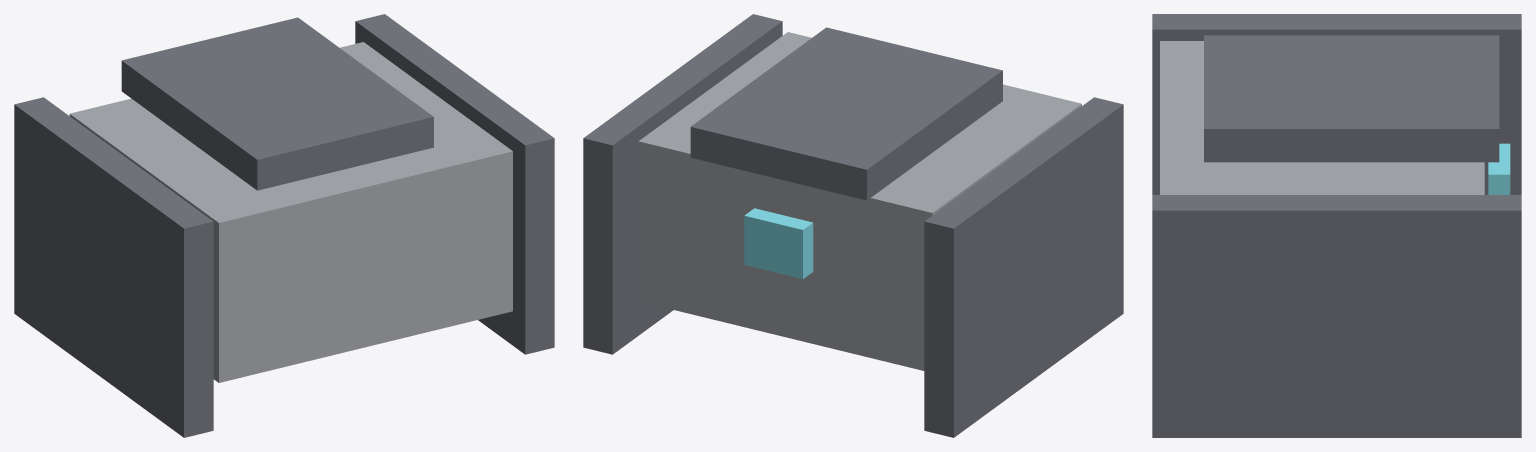
File: pdc_twin_pitch.glb
3 views of the same model, side by side, from view 1: azimuth 30°, elevation 25°; view 2: azimuth 150°, elevation 25°; view 3: azimuth 270°, elevation 25° (orthographic). The views are drawn at different scales.
Bounding box in the file's own units: 0.63 × 0.385 × 0.5.
